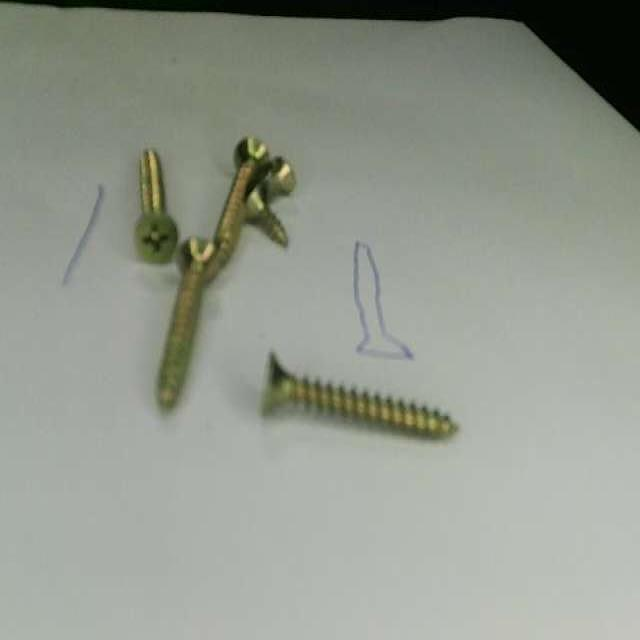Parafuso: (264, 355, 459, 439), (156, 235, 218, 406), (217, 133, 269, 261), (136, 151, 179, 264), (245, 180, 287, 241), (263, 152, 295, 196)
